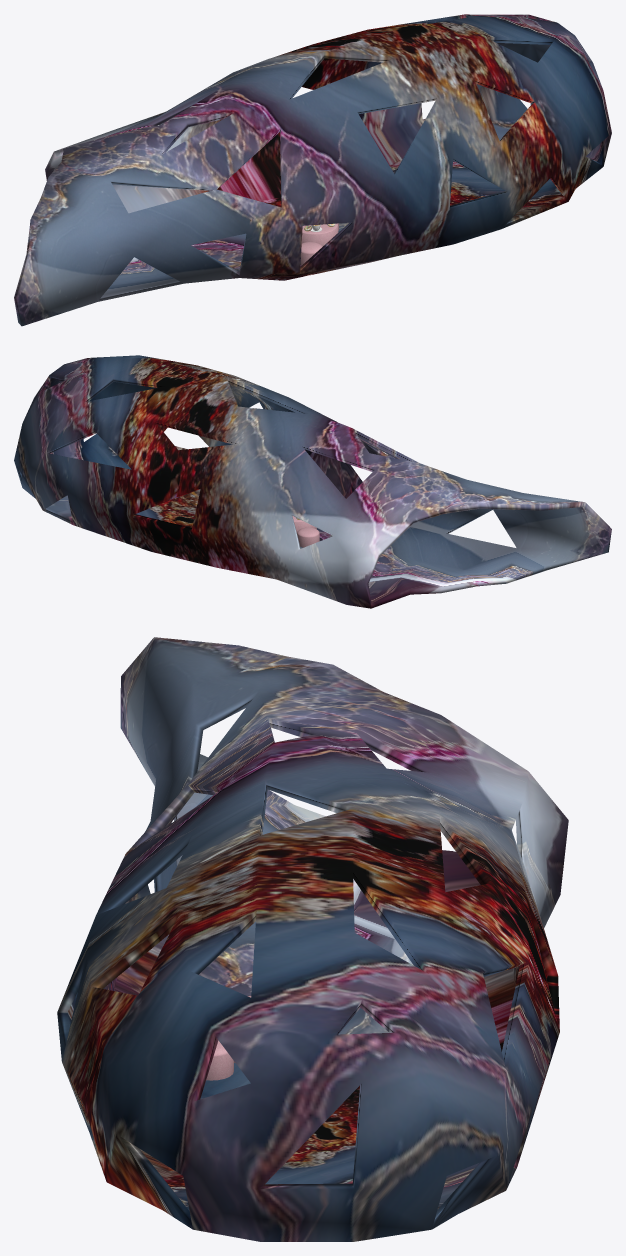
The picture shows the model from 3 angles, top to bottom: view 1: azimuth 30°, elevation 25°; view 2: azimuth 150°, elevation 25°; view 3: azimuth 270°, elevation 25°; orthographic projection. The views are drawn at different scales.
Visible parts, largest first — view 1: MSH_Base_07_Main, MSH_Base_07_ChairTable; view 2: MSH_Base_07_Main, MSH_Base_07_ChairTable; view 3: MSH_Base_07_Main.
Part boxes in pixels (x1,y1,x2,y2): MSH_Base_07_Main: (14, 14, 611, 326); MSH_Base_07_ChairTable: (300, 223, 338, 264); MSH_Base_07_Main: (14, 355, 611, 608); MSH_Base_07_ChairTable: (292, 516, 319, 547); MSH_Base_07_Main: (57, 637, 568, 1241).
Bounding box in the file's own units: 2443 × 640 × 1019.
